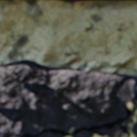brick: (0, 59, 136, 136), (33, 123, 127, 136), (64, 0, 84, 1)
crack: (0, 105, 135, 136)
